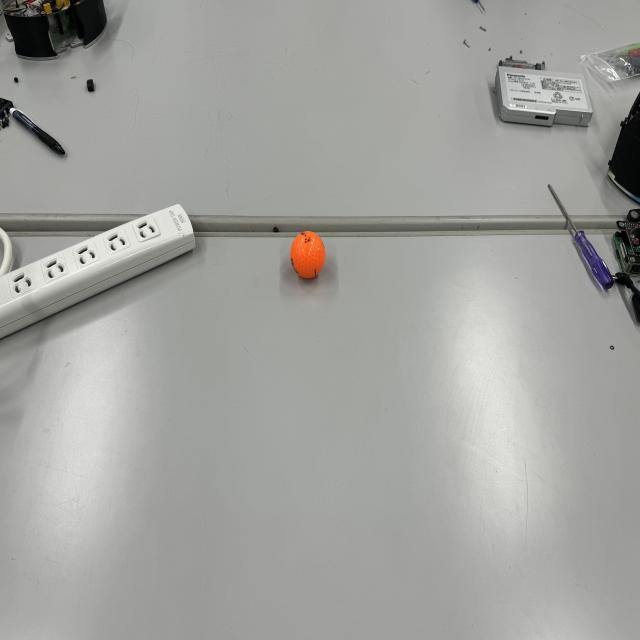ball: (290, 230, 327, 282)
